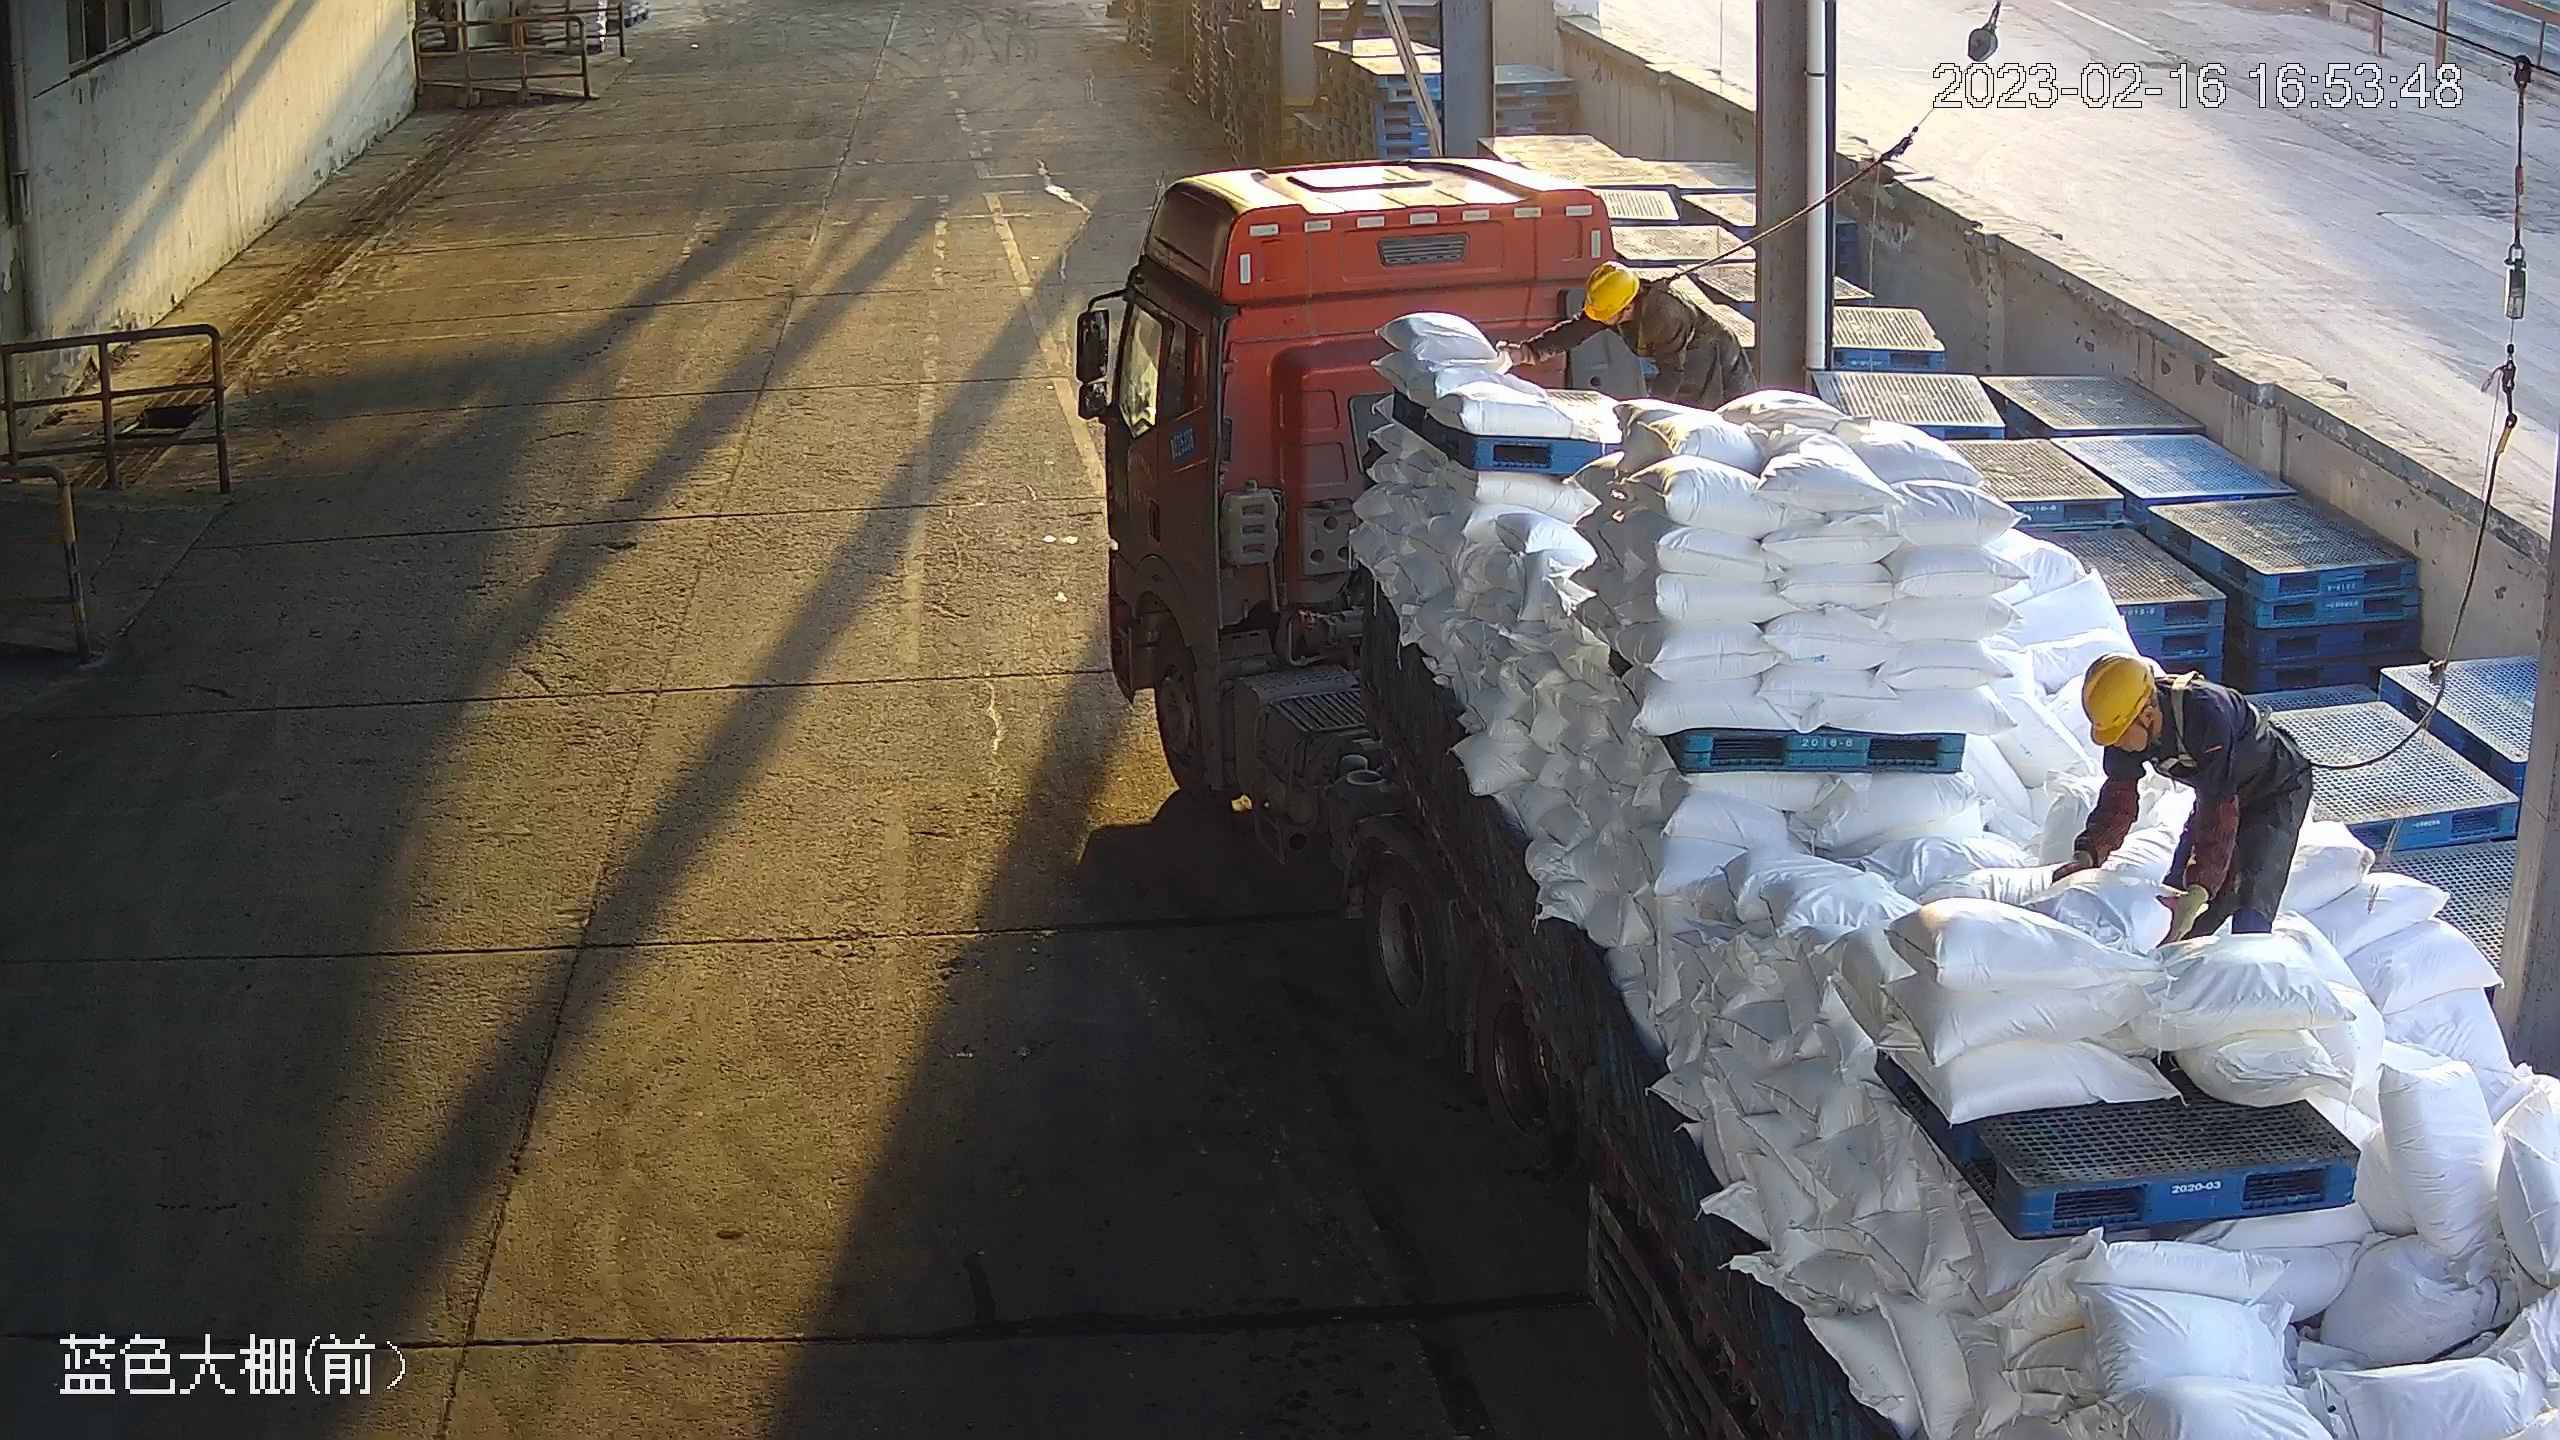belt: (2153, 679, 2251, 776), (1639, 274, 1699, 350)
head: (2081, 655, 2225, 778), (1570, 260, 1662, 339)
helmet: (2079, 655, 2158, 748), (1583, 262, 1641, 325)
people: (2058, 651, 2318, 941), (1492, 255, 1760, 409)
truck: (1070, 158, 2560, 1440)
